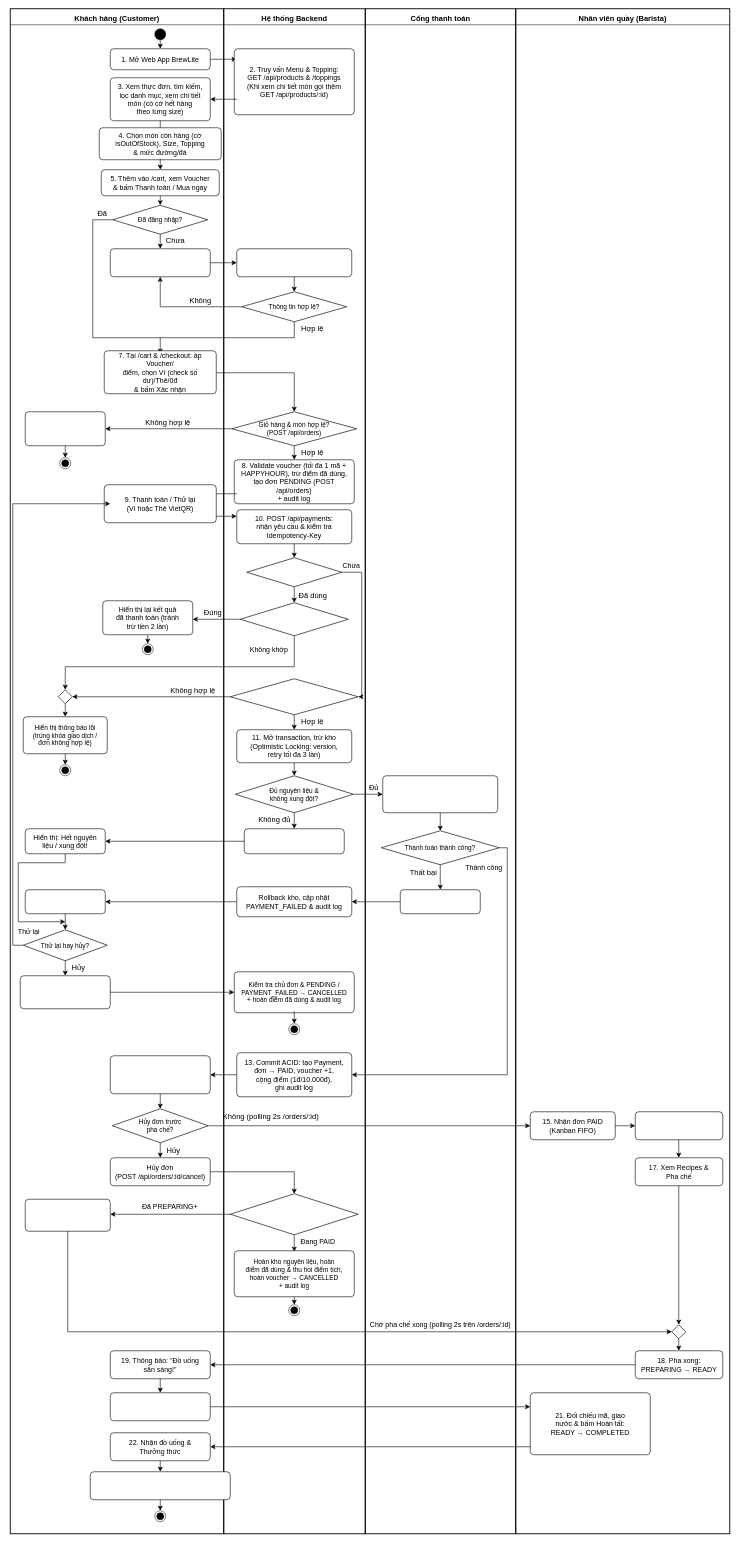
Some shapes in this 740 by 1543 pixel diagram are drawn without their labels. Each missing label, with the centre of its shape:
12. Cổng thanh toán xử lý trừ tiền (giả lập: OK / FAIL / TIMEOUT): point (440, 794)
14. Màn hình Đặt thành công & Mã đơn (PAID): point (160, 1074)
16. Bấm Tiếp nhận: PAID → PREPARING: point (679, 1125)
20. Đến quầy xuất trình mã: point (160, 1406)
23. (Tùy chọn) Đánh giá món đã COMPLETED (POST/PATCH/DELETE /api/reviews): point (160, 1485)
6a. Đăng nhập (username, mật khẩu) hoặc Đăng ký: point (160, 262)
6b. Xác thực / tạo tài khoản & cấp Access + Refresh JWT: point (294, 262)
Báo thất bại / TIMEOUT: point (440, 901)
Báo xung đột tồn kho & Rollback: point (294, 841)
Cùng đơn & phương thức?: point (294, 619)
Hiển thị lỗi: giỏ hàng rỗng / món không còn tồn tại: point (65, 428)
Hiển thị thông báo: Đơn đang pha, không thể hủy: point (67, 1215)
Hiển thị: Thanh toán thất bại!: point (65, 901)
Hủy đơn chưa thanh toán (POST /api/orders/:id/cancel): point (65, 992)
Key đã được dùng?: point (294, 572)
Kiểm tra chủ đơn & State Machine: đơn còn PAID?: point (294, 1214)
Đúng chủ đơn & PENDING / PAYMENT_FAILED?: point (294, 696)
